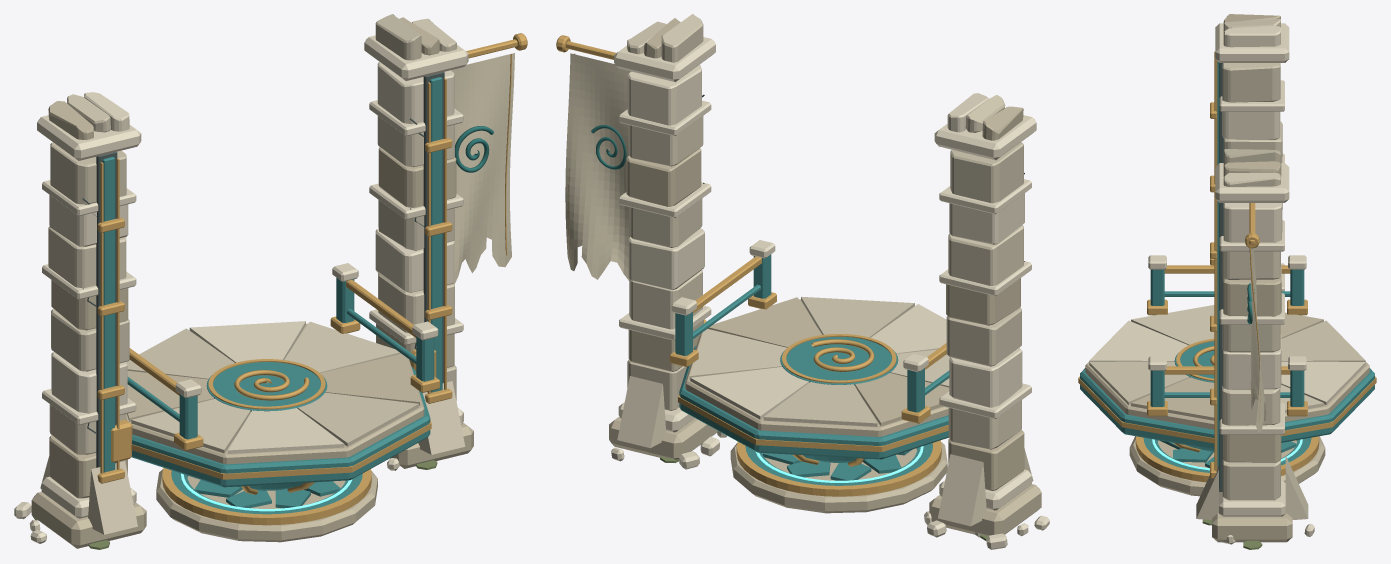
Rendered from wind_lift_v1.glb.
3 renders of one model, left to right at view 1: azimuth 30°, elevation 25°; view 2: azimuth 150°, elevation 25°; view 3: azimuth 270°, elevation 25°, orthographic. The views are drawn at different scales.
Parts seen in each view (by area): view 1: Frame_StoneAndRails, Platform_DeckAndCatcher, Banner_Assembly, Outlet_Housing, Iris_Assembly; view 2: Frame_StoneAndRails, Platform_DeckAndCatcher, Banner_Assembly, Outlet_Housing, Iris_Assembly; view 3: Frame_StoneAndRails, Platform_DeckAndCatcher, Outlet_Housing, Banner_Assembly, Iris_Assembly.
Boxes of the visible parts, <box> form: Frame_StoneAndRails: <box>14,14,473,549</box>; Platform_DeckAndCatcher: <box>111,263,439,494</box>; Banner_Assembly: <box>451,33,527,283</box>; Outlet_Housing: <box>156,467,377,542</box>; Iris_Assembly: <box>194,480,340,508</box>; Frame_StoneAndRails: <box>609,14,1049,549</box>; Platform_DeckAndCatcher: <box>669,240,950,466</box>; Banner_Assembly: <box>556,35,630,280</box>; Outlet_Housing: <box>730,440,947,513</box>; Iris_Assembly: <box>762,449,912,480</box>; Frame_StoneAndRails: <box>1196,14,1314,549</box>; Platform_DeckAndCatcher: <box>1078,255,1376,452</box>; Outlet_Housing: <box>1129,436,1325,496</box>; Banner_Assembly: <box>1245,203,1266,432</box>; Iris_Assembly: <box>1159,440,1296,468</box>.
Size of the model in its own units: 6.46 by 5.32 by 3.84.
